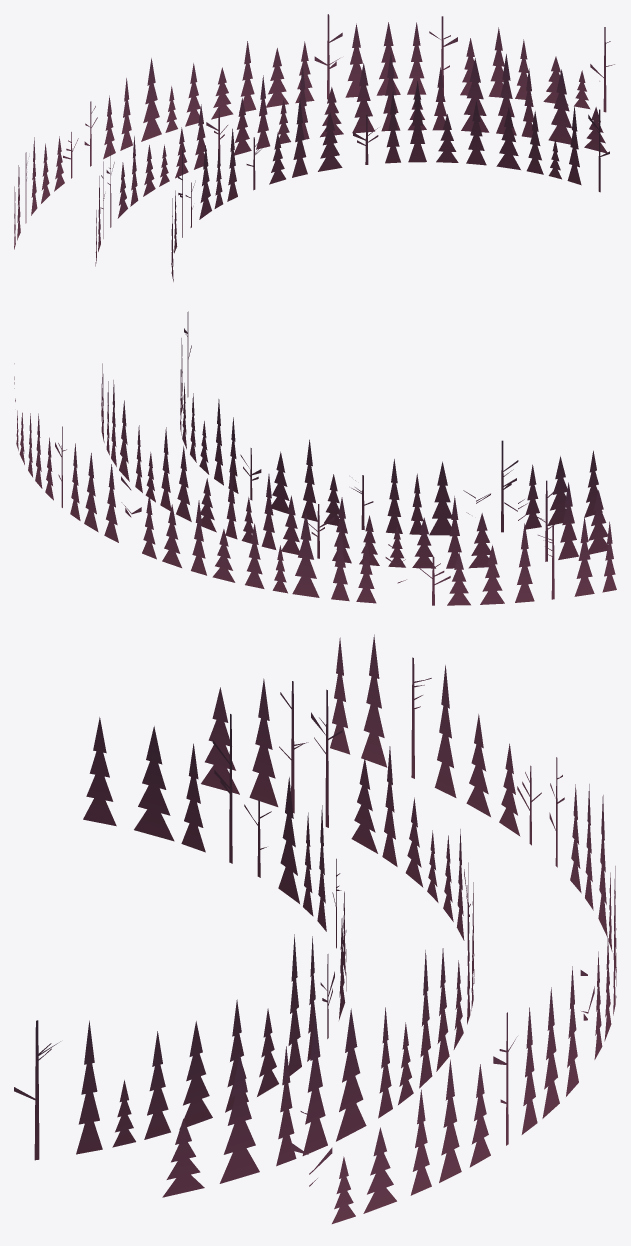
File: environment_distant_forest.glb
3 views of the same model, one above another, from view 1: azimuth 30°, elevation 25°; view 2: azimuth 150°, elevation 25°; view 3: azimuth 270°, elevation 25° (orthographic). The views are drawn at different scales.
Parts seen in each view (by area): view 1: distant_forest_layer_3, distant_forest_layer_2, distant_forest_layer_1; view 2: distant_forest_layer_3, distant_forest_layer_2, distant_forest_layer_1; view 3: distant_forest_layer_2, distant_forest_layer_3, distant_forest_layer_1.
Boxes of the visible parts, <box> form: distant_forest_layer_3: <box>14,14,614,249</box>; distant_forest_layer_2: <box>95,52,607,266</box>; distant_forest_layer_1: <box>171,81,609,281</box>; distant_forest_layer_3: <box>14,363,616,605</box>; distant_forest_layer_2: <box>101,363,607,568</box>; distant_forest_layer_1: <box>180,311,602,535</box>; distant_forest_layer_2: <box>162,678,474,1197</box>; distant_forest_layer_3: <box>290,634,616,1223</box>; distant_forest_layer_1: <box>14,714,346,1160</box>.
Size of the model in its own units: 162 by 23.1 by 84.7.
